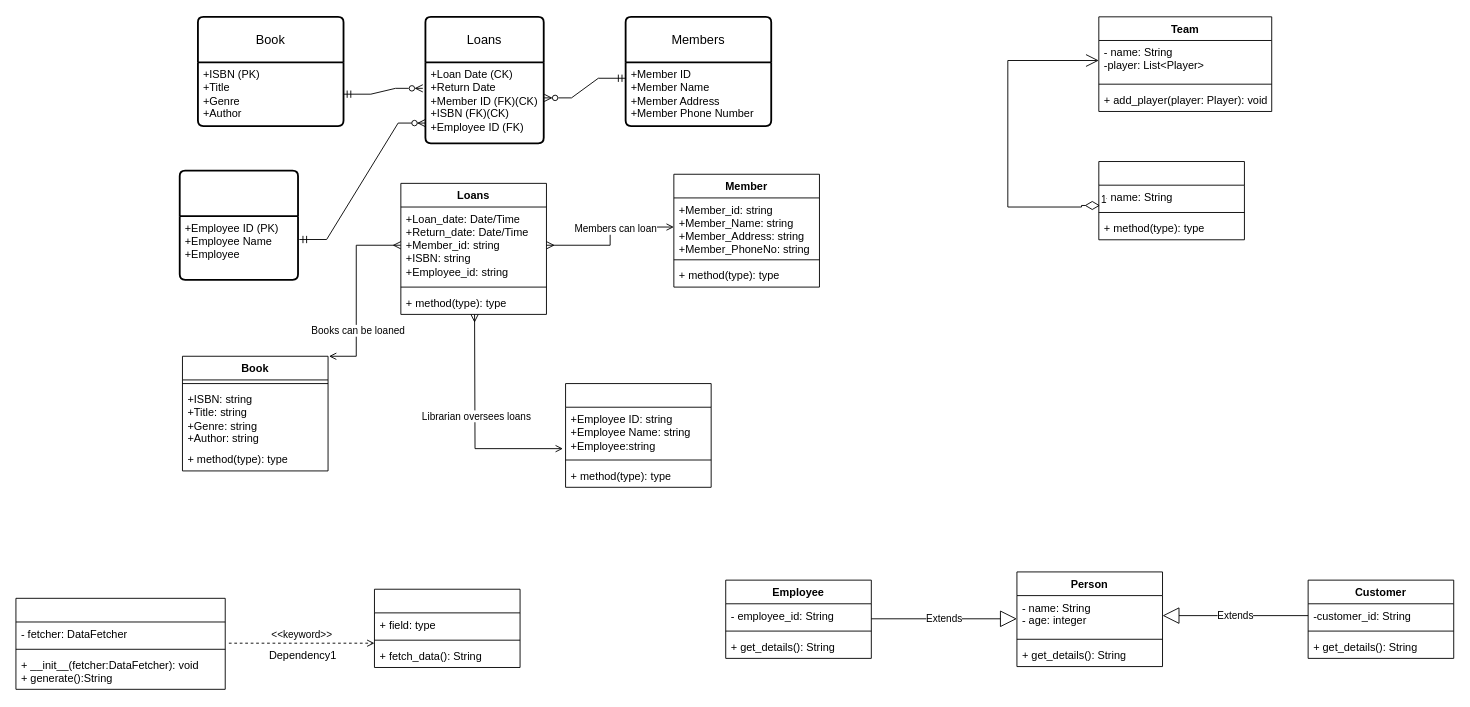
Image size: 1470x707. Some labels were removed from this diagram. The shapes that lost their labels are listed below. From the top down, each one's box as (x1, y1, x2, y2) in pixels, then its label:
(1098, 161, 1244, 240): Player
(178, 169, 298, 280): Librarians
(565, 383, 711, 487): Librarian
(15, 597, 225, 689): Report
(374, 588, 520, 667): DataFetcher
